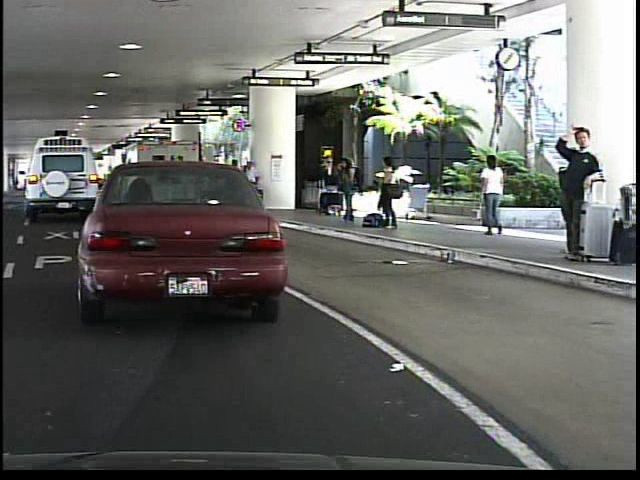person: (550, 119, 602, 263), (473, 154, 511, 238), (372, 154, 399, 230)
